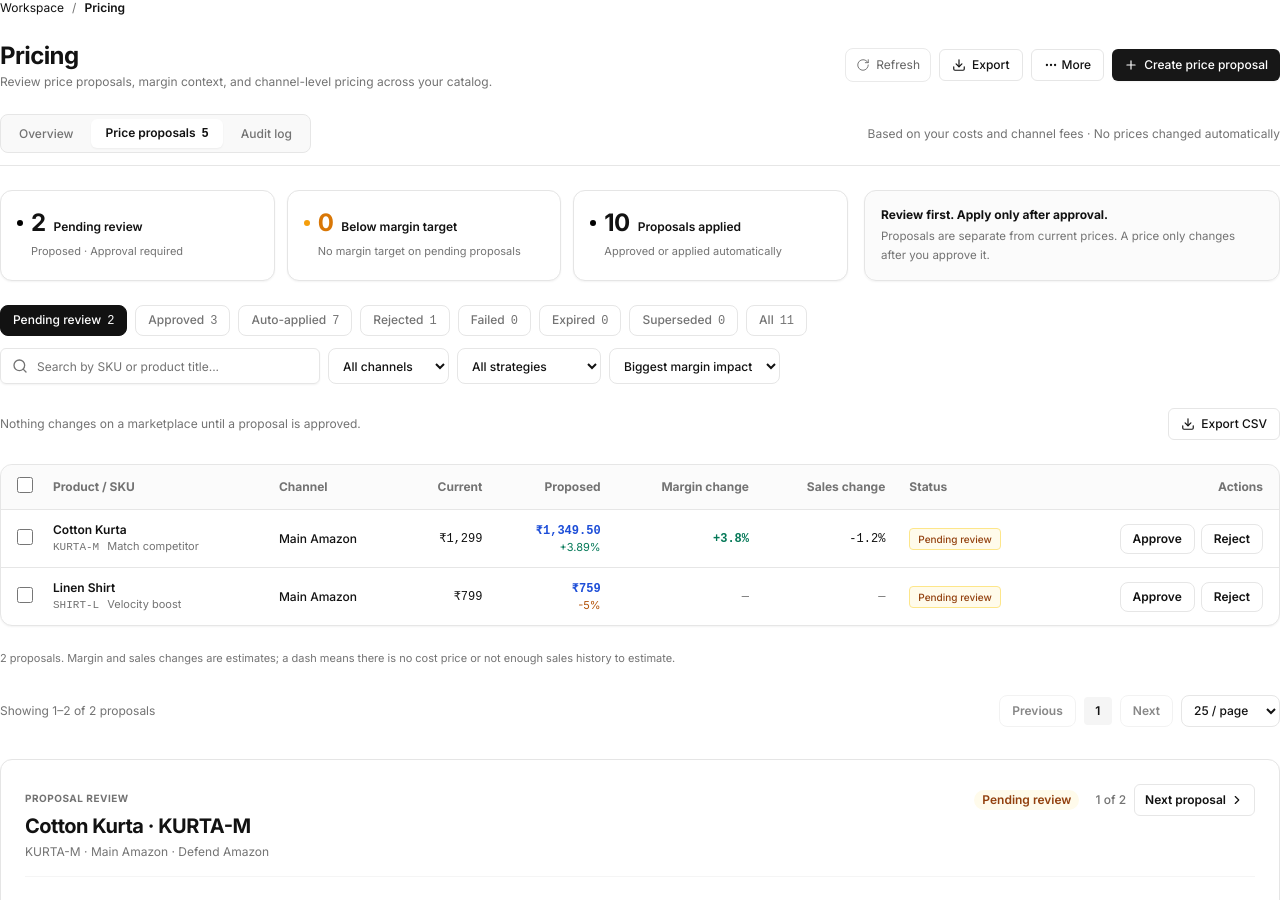
Scenario: PricingPage proposals › approves only after a confirmation, sends the version and note, and reports the result
The width and height of the screenshot is (1280, 900).
Expected: the button "Cotton Kurta" is shown, [53,522,127,538]
Click the button "Approve" in the row of "Match competitor".
click(1157, 539)  # box [1120,524,1195,554]
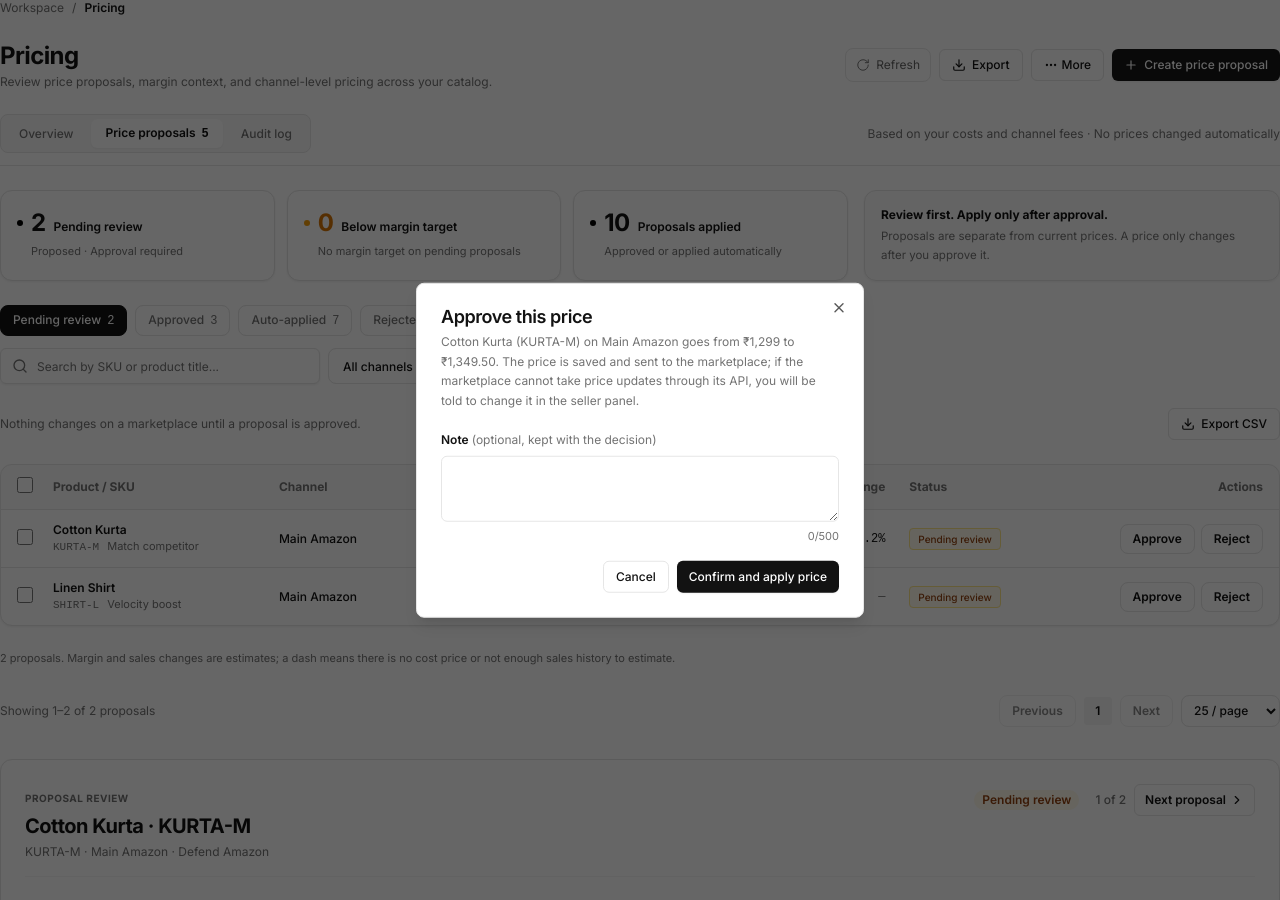
Expected: the text "goes from ₹1,299 to ₹1,349.50" is shown, [441,334,816,407]
Type "festive pricing" into the text box labelled "Note (optional, kept with the decision)".
click(640, 489); type("festive pricing")  # box [441,456,839,522]
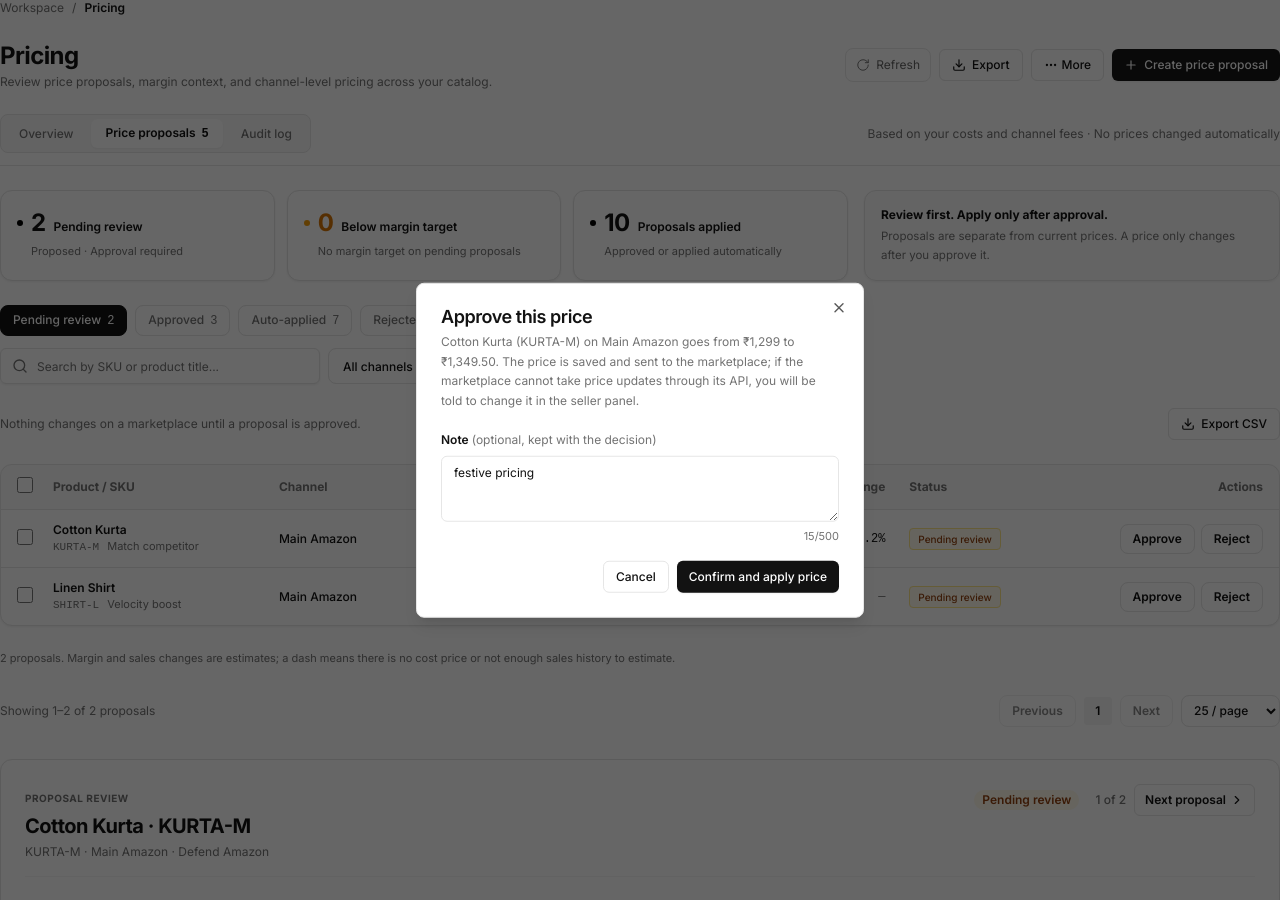
Click the button "Confirm and apply price".
click(758, 576)  # box [677,560,839,592]
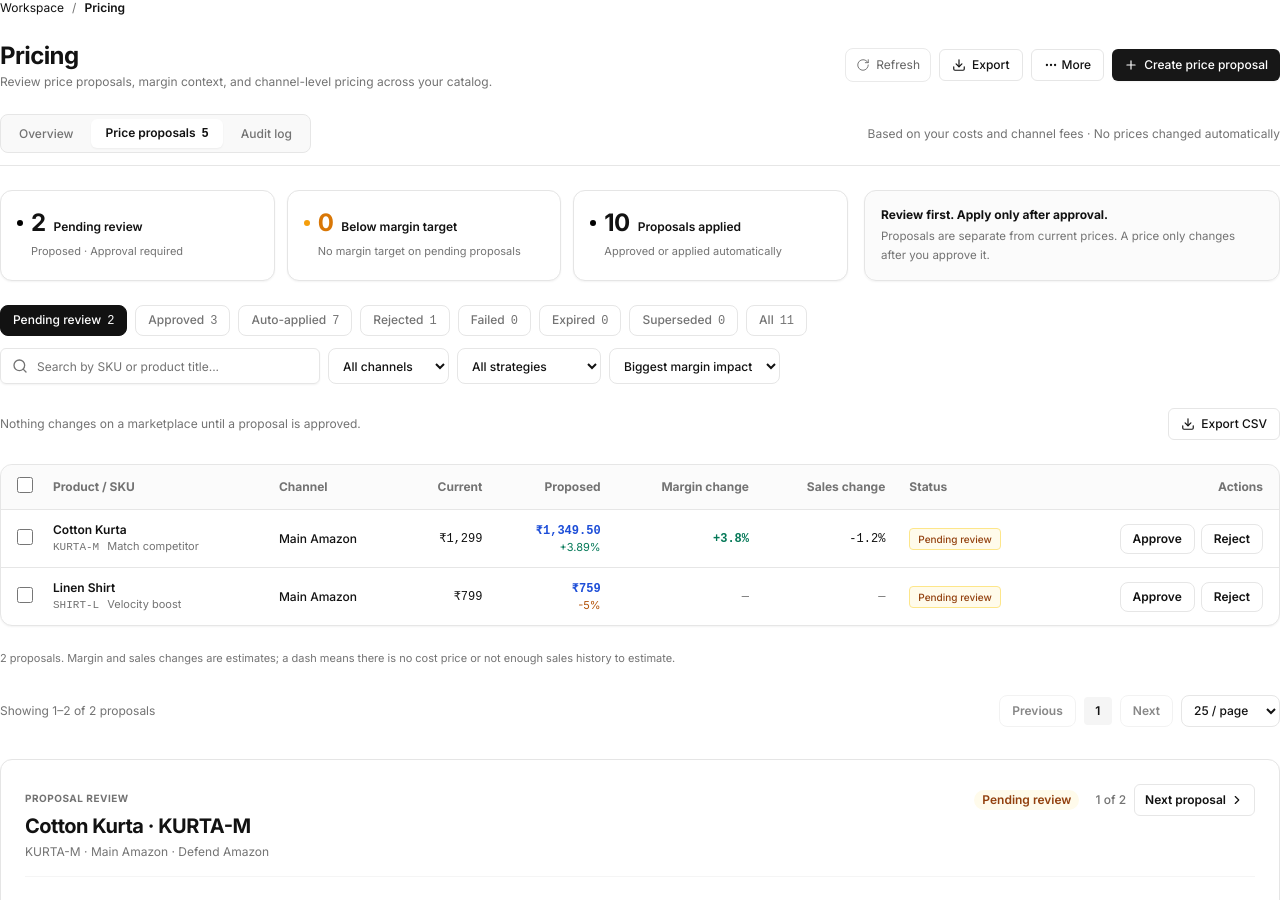
Expected: the dialog is gone
